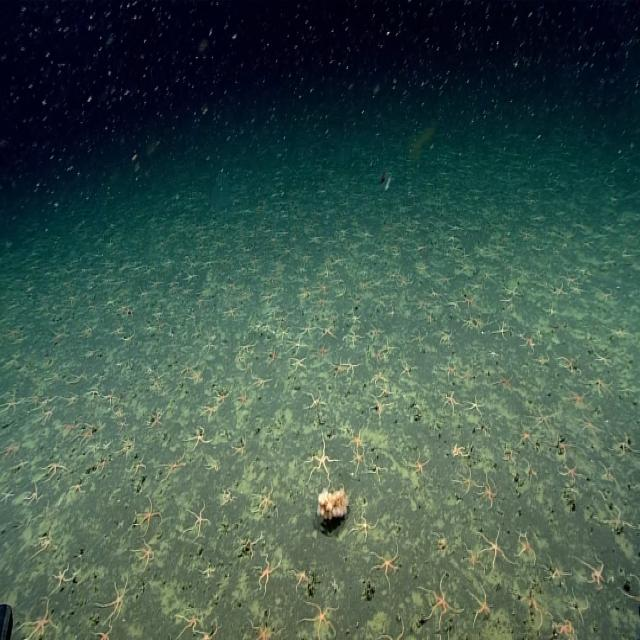brittle-stars: (422, 577, 458, 625), (520, 580, 552, 630), (16, 601, 55, 640), (303, 601, 339, 640), (593, 503, 640, 532), (308, 436, 336, 482), (102, 579, 129, 617), (579, 554, 607, 590), (480, 529, 507, 566), (254, 553, 280, 591), (373, 548, 401, 583), (134, 499, 161, 535), (185, 504, 208, 538), (468, 587, 491, 621), (176, 606, 202, 636), (255, 485, 278, 518), (161, 451, 188, 479), (249, 612, 276, 640), (352, 511, 376, 542), (134, 540, 156, 571), (547, 557, 569, 587), (112, 434, 136, 461), (53, 562, 75, 590), (518, 534, 538, 564), (479, 477, 498, 508), (531, 407, 554, 432), (455, 469, 476, 496), (0, 394, 23, 418), (553, 615, 575, 640), (290, 563, 310, 590), (35, 530, 55, 556), (559, 460, 583, 481), (188, 427, 210, 449), (565, 386, 587, 408), (43, 457, 66, 478), (557, 354, 580, 375), (410, 452, 430, 476), (582, 415, 602, 439), (131, 452, 147, 482), (464, 544, 482, 570), (518, 422, 535, 448), (495, 372, 515, 394), (10, 456, 30, 478), (348, 428, 366, 452), (198, 622, 222, 640), (25, 483, 43, 507), (590, 374, 610, 395), (368, 398, 388, 419), (73, 424, 92, 446), (465, 395, 484, 416), (80, 423, 98, 445), (0, 484, 17, 507), (452, 442, 471, 462), (93, 622, 114, 640), (444, 390, 460, 413), (306, 391, 326, 409), (200, 403, 218, 422), (344, 328, 362, 347), (410, 328, 428, 347), (351, 447, 367, 468), (66, 474, 82, 495), (289, 354, 307, 372), (147, 411, 163, 431), (441, 358, 457, 378), (345, 357, 361, 377), (70, 478, 86, 498), (398, 357, 414, 377), (266, 346, 282, 365), (520, 334, 536, 353), (232, 439, 248, 458), (369, 321, 385, 340), (220, 486, 235, 506), (493, 323, 508, 343), (239, 392, 254, 412), (333, 358, 348, 378), (236, 388, 250, 409), (459, 366, 475, 384), (289, 337, 305, 355), (253, 375, 270, 391), (214, 388, 230, 405), (319, 323, 335, 340), (315, 343, 330, 361), (378, 382, 393, 400), (463, 293, 478, 310), (370, 369, 385, 386), (224, 304, 238, 320), (302, 321, 316, 337), (190, 369, 202, 386), (116, 417, 128, 432), (114, 406, 124, 421)
